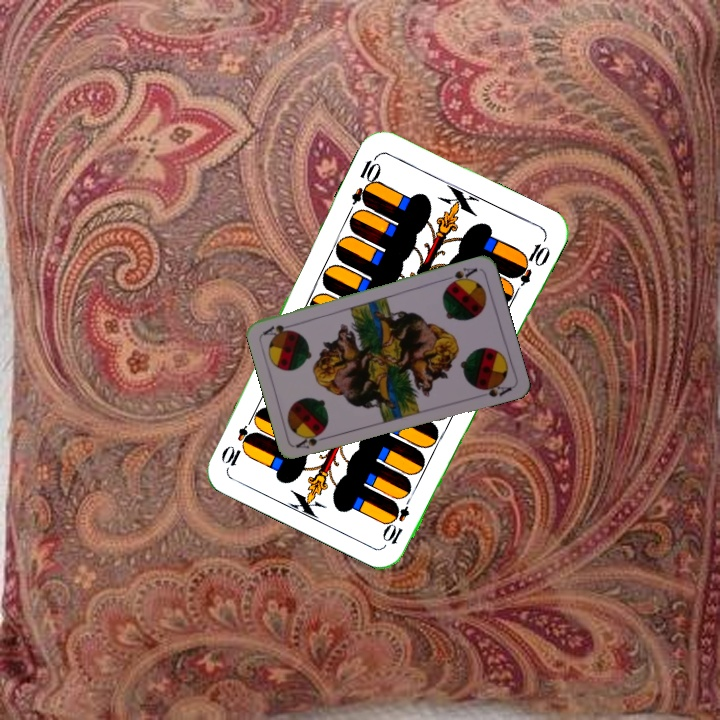E10: (347, 151, 384, 208), (380, 490, 416, 547)
SA: (292, 429, 332, 452), (442, 264, 480, 288)
